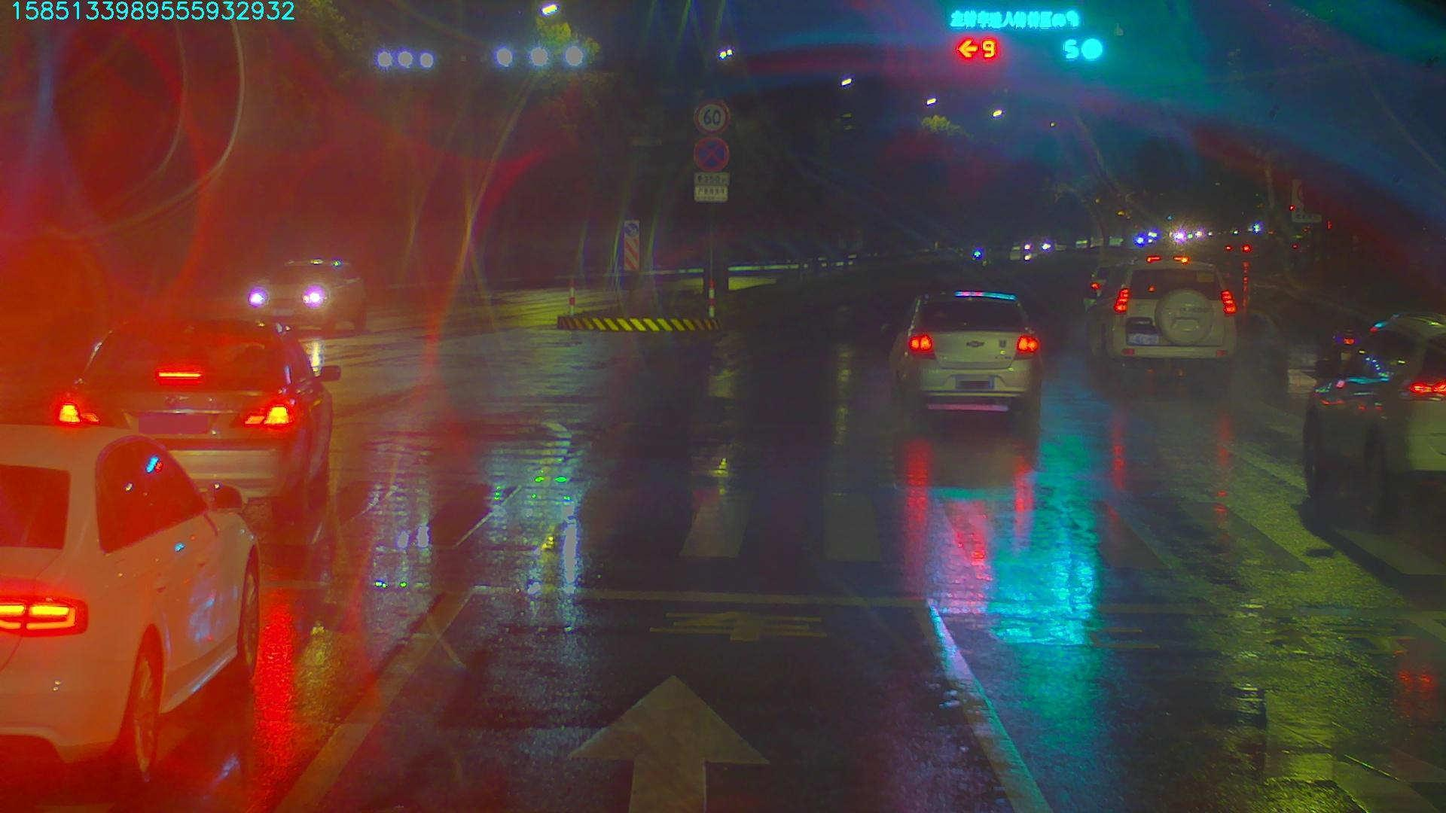green: (1059, 34, 1108, 66)
red: (950, 34, 996, 67)
wait_on: (943, 8, 1088, 27)
